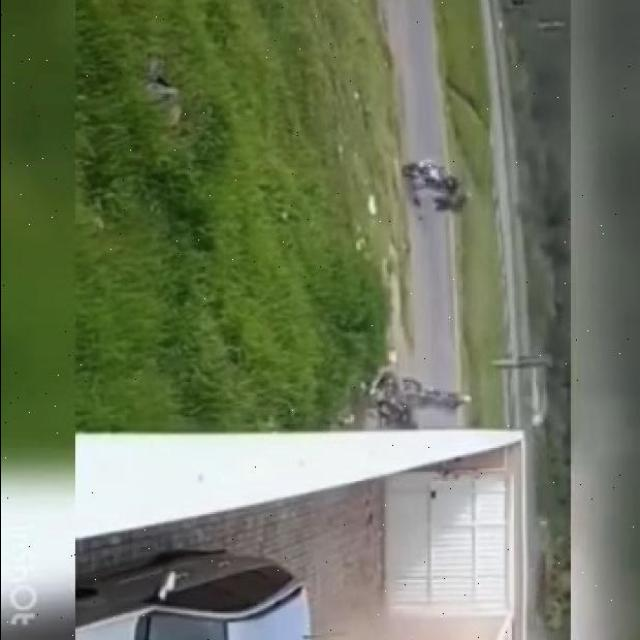accident: (380, 362, 436, 438)
